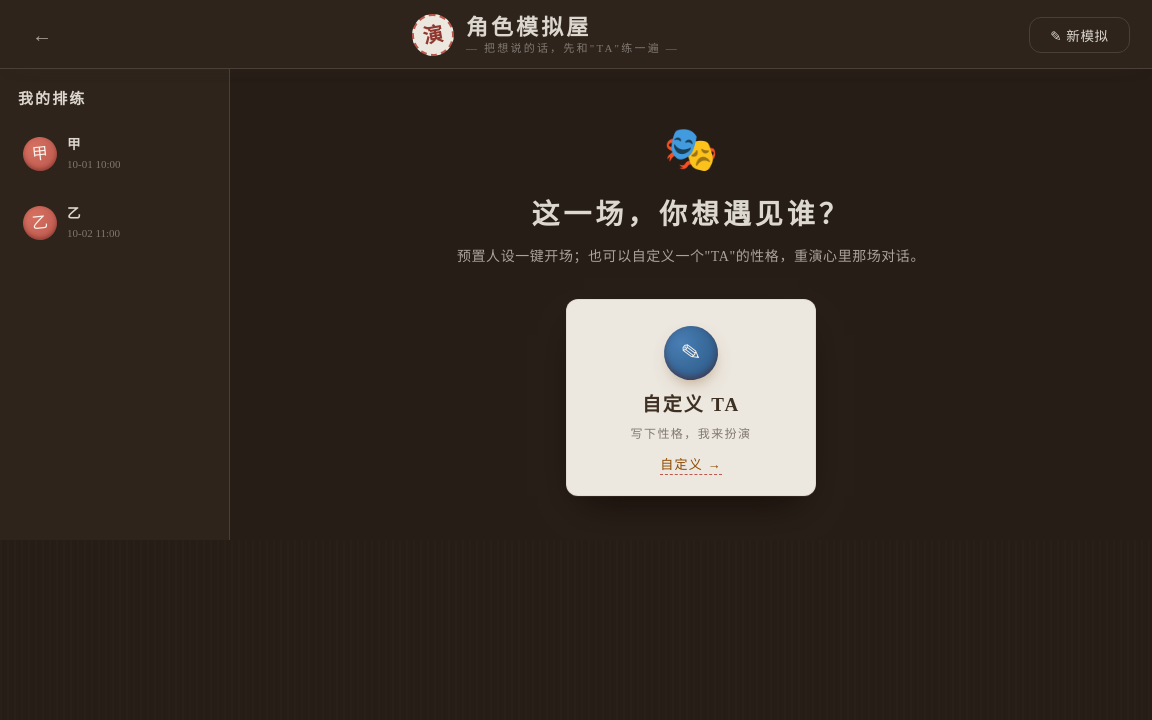
Sandbox：currentSession 解析与侧栏切换 › 侧栏高亮与聊天头都跟随 currentId（查表命中）
The width and height of the screenshot is (1152, 720).
What coordinates should you click on to do the following:
click the element with class "sb-session" showing "甲 甲 10-01 10:00"
I would click on:
 (71, 154)
Its box is [21,135,120,172].
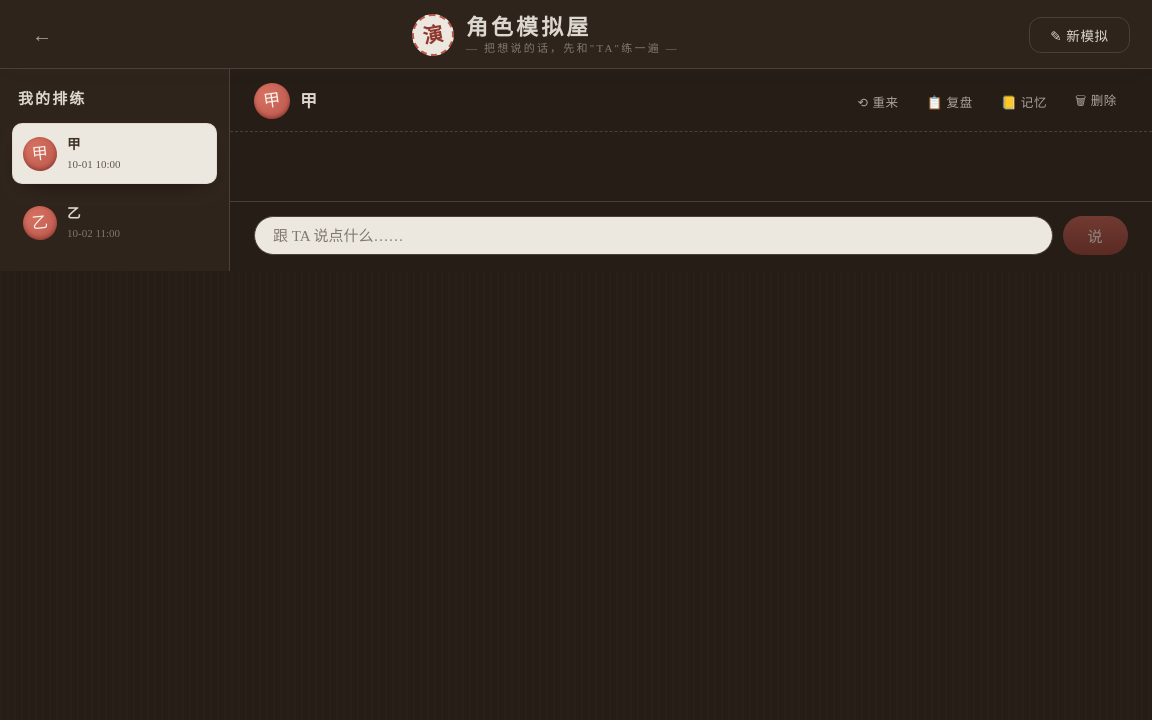
Expected: the text with class "sb-chat-name" reads "甲", [300,92,318,111]
What coordinates should you click on to do the following:
click the button with class "sb-tool" showing "📒 记忆"
I would click on:
 (1024, 101)
Its box is [990,84,1058,118].
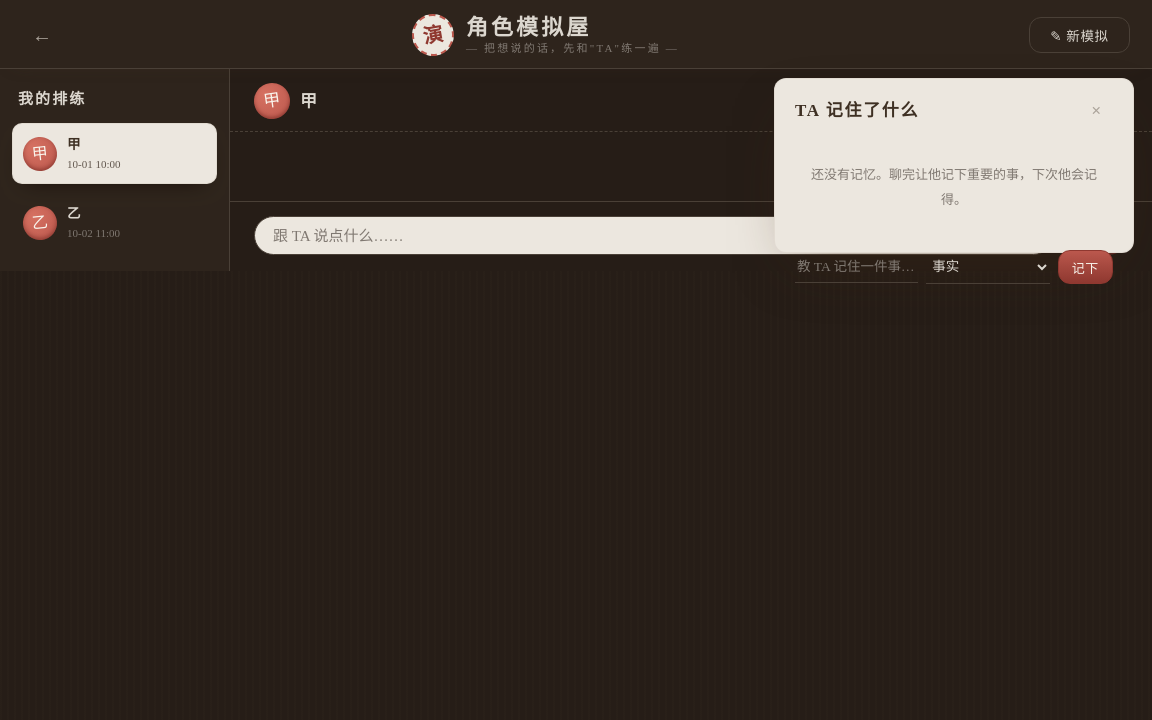
Expected: the element with class "sb-mem-drawer" is shown, [774,78,1134,253]
What coordinates should you click on to do the following:
click the element with class "sb-session" showing "乙 乙 10-02 11:00"
I would click on:
 (71, 223)
Its box is [21,204,120,242].
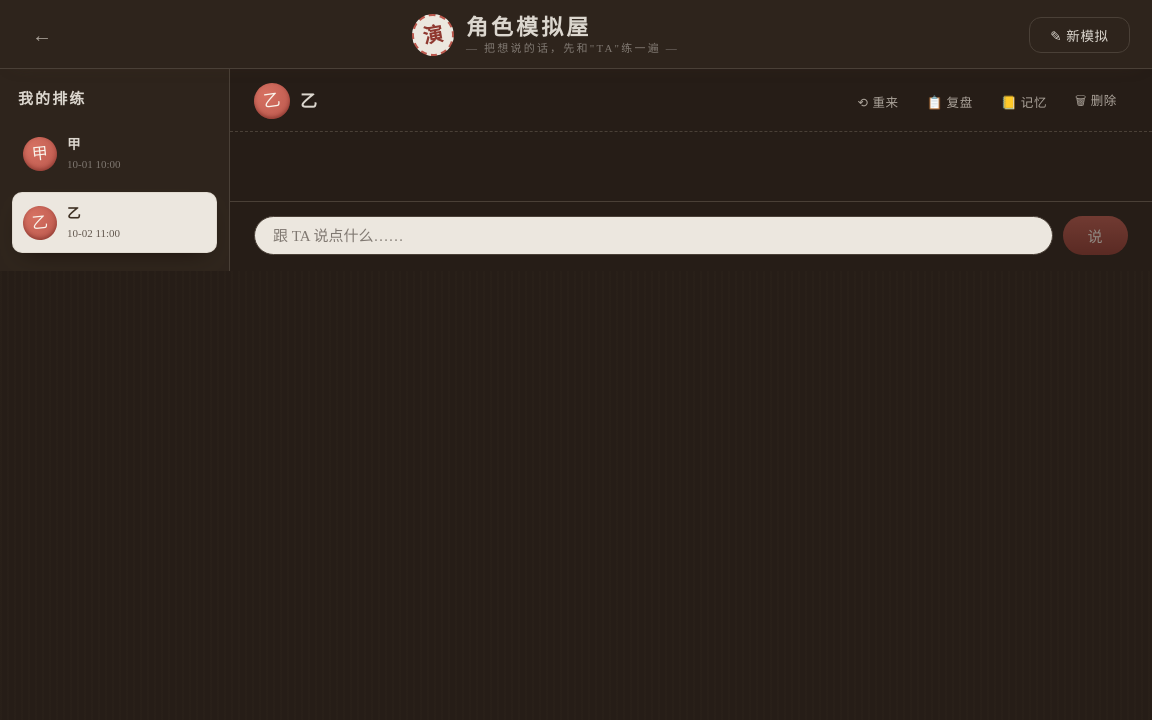
Expected: the text with class "sb-chat-name" reads "乙", [300,92,318,111]
